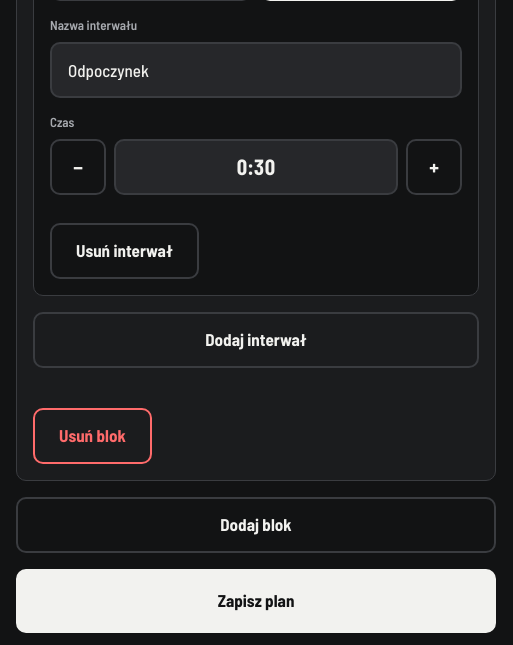
Test: CardioPlanEditor intervals and blocks › "Dodaj interwał" adds an interval of the opposite type with the defaults, and "Usuń interwał" removes that one
The image size is (513, 645).
(page scrolled)
Click the button "Dodaj interwał".
click(256, 340)  # box [33, 312, 479, 368]
(page scrolled)
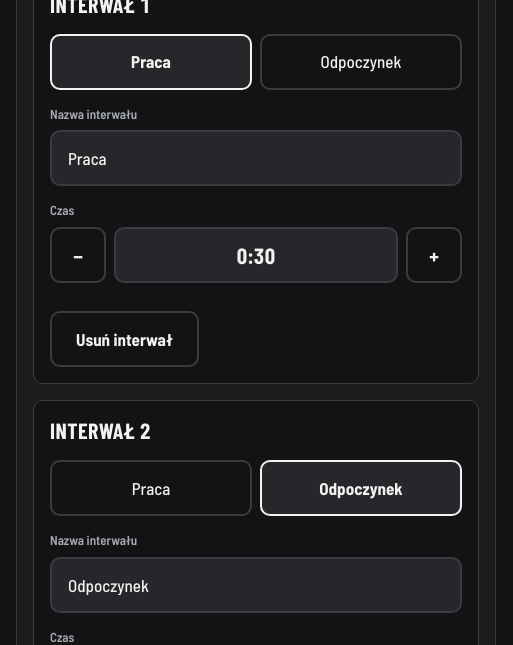
Click the button "Usuń interwał".
click(124, 339)  # box [50, 311, 199, 367]
(page scrolled)
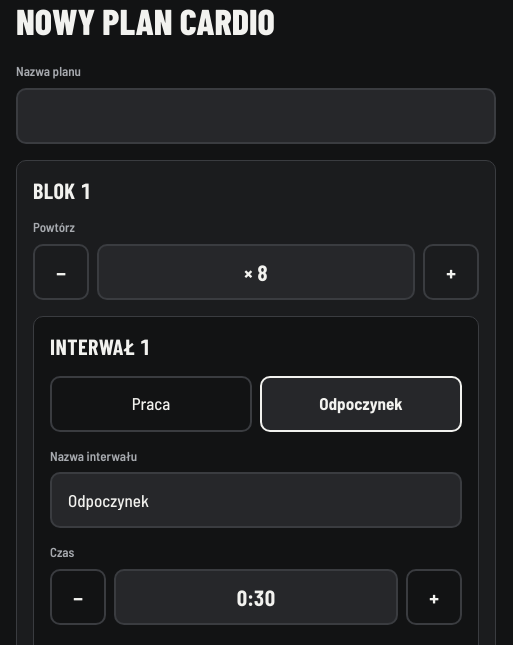
Result: the number of elements with class "interval" is 2
